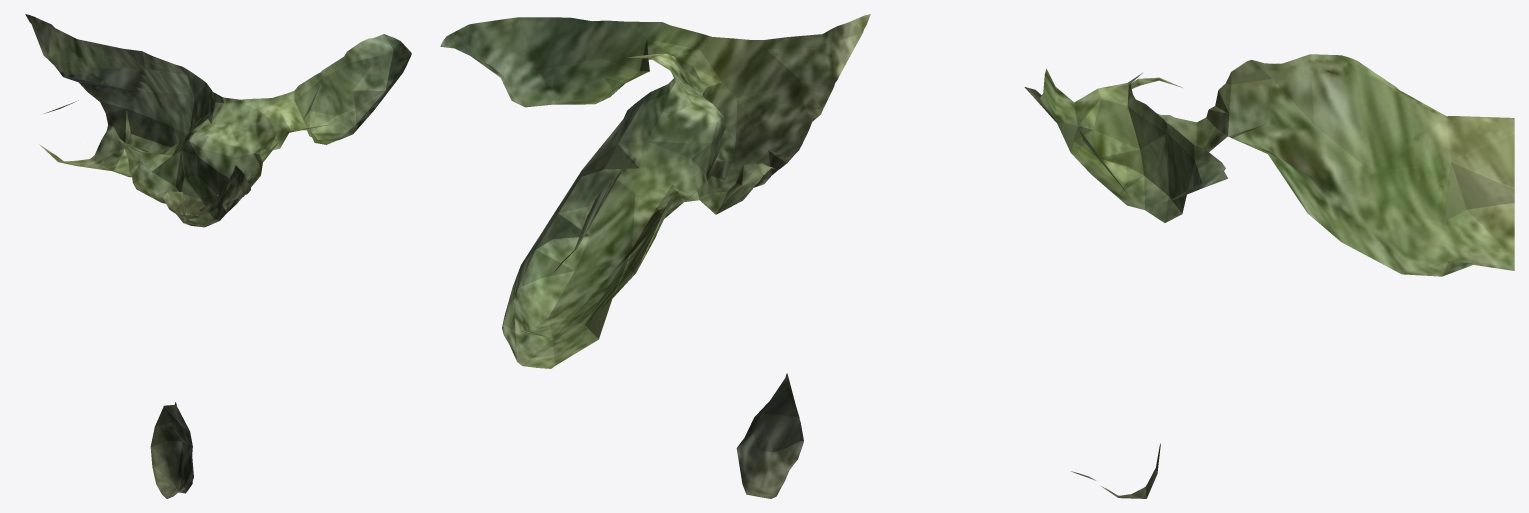
3 renders of one model, left to right at view 1: azimuth 30°, elevation 25°; view 2: azimuth 150°, elevation 25°; view 3: azimuth 270°, elevation 25°, orthographic. The views are drawn at different scales.
Size of the model in its own units: 3.51 by 4.7 by 5.44.
2 materials, 2 textured.
